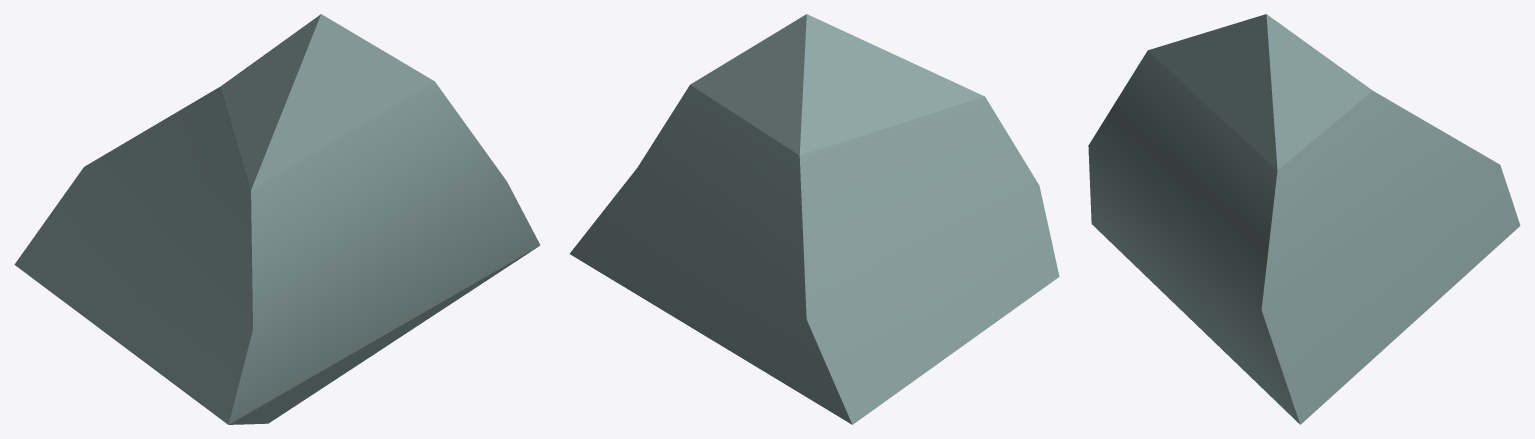
The model's file is rock1_coloured.fbx.
3 views of the same model, side by side, from view 1: azimuth 30°, elevation 25°; view 2: azimuth 150°, elevation 25°; view 3: azimuth 270°, elevation 25° (orthographic). The views are drawn at different scales.
Parts seen in each view (by area): view 1: pSphere1; view 2: pSphere1; view 3: pSphere1.
Part boxes in pixels (x1,y1,x2,y2): pSphere1: (14, 14, 540, 424); pSphere1: (569, 14, 1059, 424); pSphere1: (1088, 14, 1520, 424).
Size of the model in its own units: 2.18 by 2 by 1.98.
